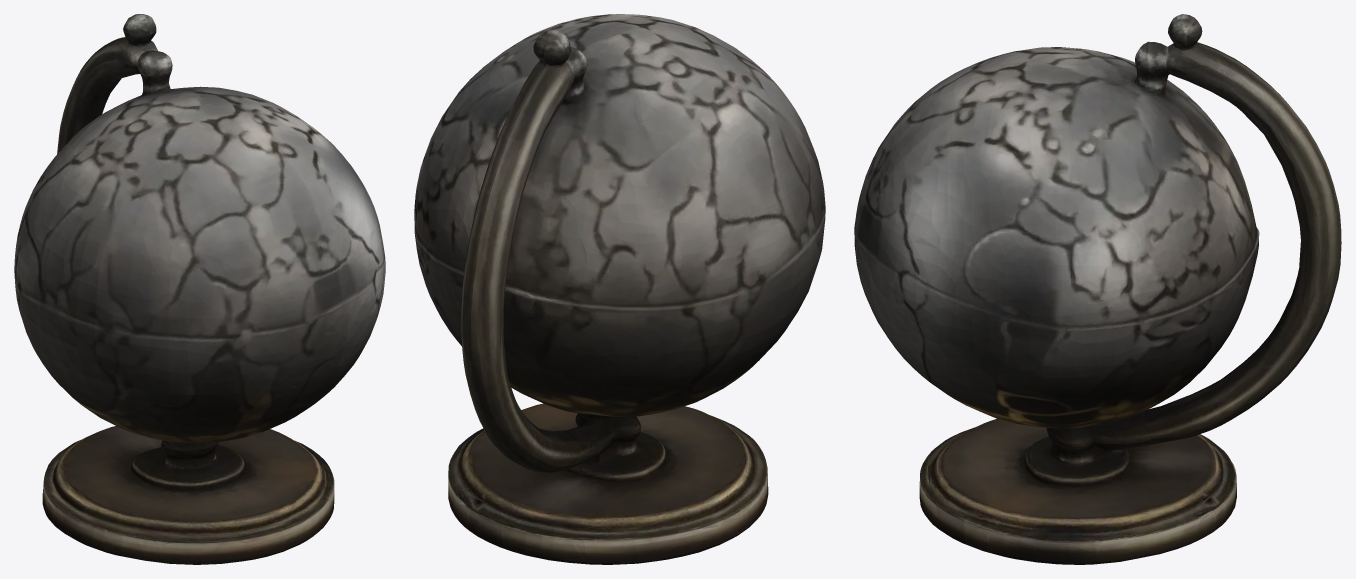
The model's file is globe-classic.glb.
The picture shows the model from 3 angles, left to right: view 1: azimuth 30°, elevation 25°; view 2: azimuth 150°, elevation 25°; view 3: azimuth 270°, elevation 25°; orthographic projection. The views are drawn at different scales.
Visible parts, largest first — view 1: world; view 2: world; view 3: world.
Boxes of the visible parts, left/top/right/bottom form: world: left=14, top=14, right=385, bottom=564; world: left=414, top=14, right=825, bottom=564; world: left=854, top=14, right=1341, bottom=564.
Size of the model in its own units: 0.7356 by 0.9992 by 0.9082.
Materials: 1 (1 with a texture image).
